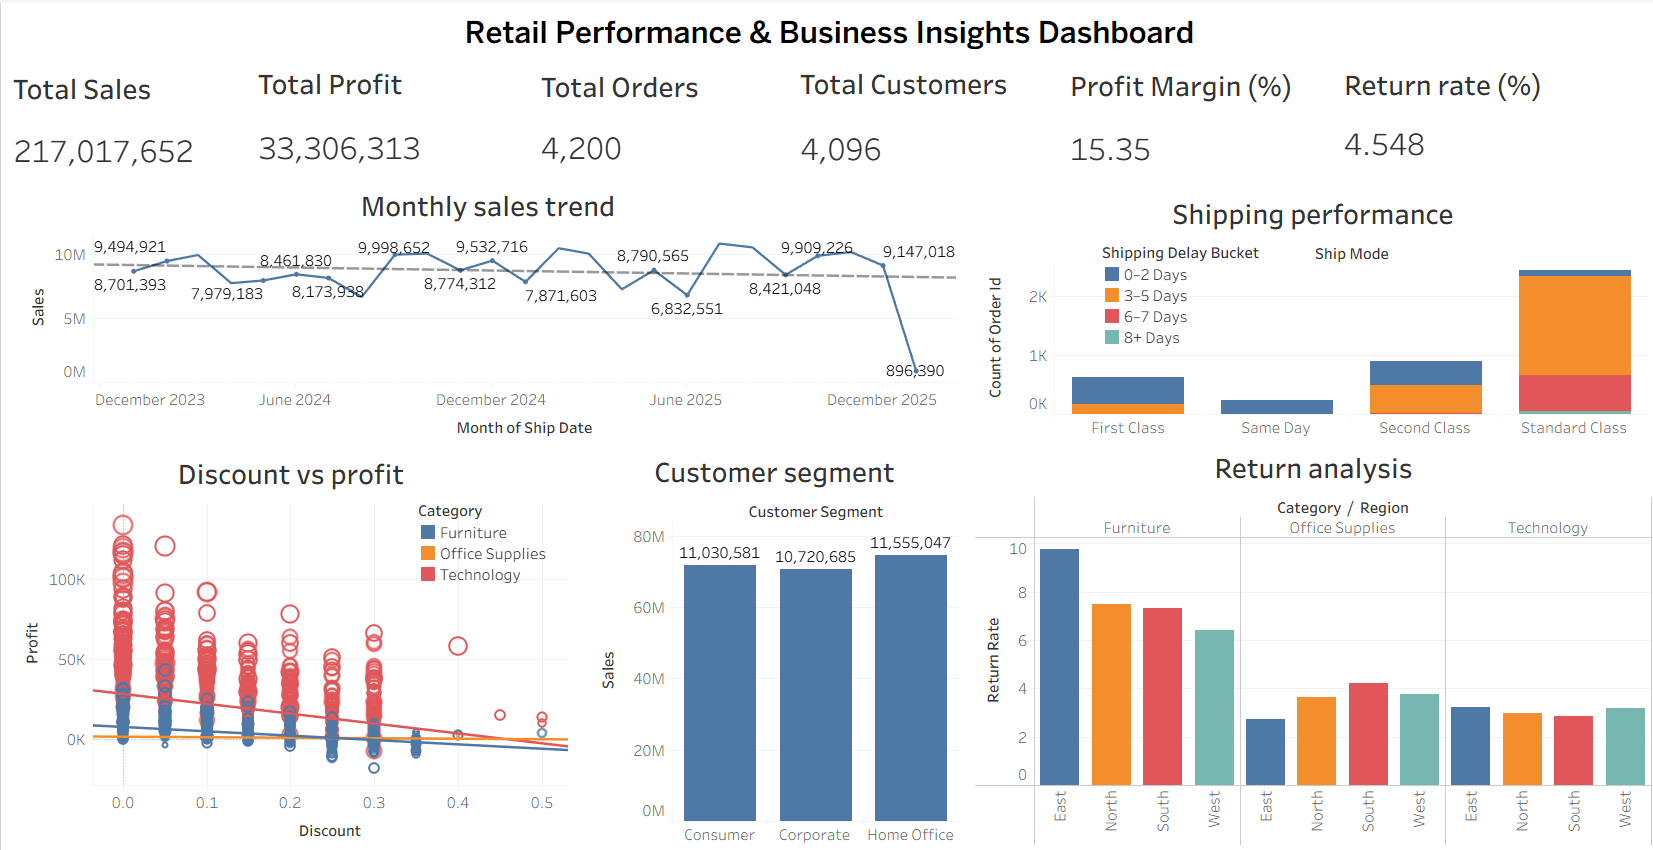

The page's visual inventory and layout, read from the dashboard file:
{"tool":"tableau","page":{"name":"Retail Perf & BI Dashboard","canvas":[1657,851],"ordinal":0},"visuals":[{"type":"title","box":[8,8,1641,44]},{"type":"worksheet","title":"Return rate","mark":"Automatic","box":[1430,51,216,116]},{"type":"worksheet","title":"Profit Margin","mark":"Automatic","box":[1147,53,280,124]},{"type":"worksheet","title":"Total Profit","mark":"Text","box":[253,58,292,131]},{"type":"worksheet","title":"Total Customers","mark":"Automatic","box":[839,59,259,124]},{"type":"worksheet","title":"Total Orders","mark":"Automatic","box":[536,61,227,115]},{"type":"worksheet","title":"Total Sales","mark":"Text","box":[8,63,251,117]},{"type":"worksheet","title":"Shipping performance","mark":"Automatic","rows":["order_id"],"cols":["ship_mode"],"box":[976,169,672,267]},{"type":"worksheet","title":"Sales trend","mark":"Automatic","rows":["sales"],"cols":["ship_date"],"box":[19,180,936,262]},{"type":"legend","title":"Shipping performance","param":"[federated.17v3oc90h205st198mt1000kp4o4].[none:Calculation_1258133023805444:nk]","box":[1146,216,140,106]},{"type":"worksheet","title":"Return analysis","mark":"Automatic","rows":["Calculation_1258133022142467"],"cols":["category","region"],"box":[974,442,677,401]},{"type":"worksheet","title":"Customer segment","mark":"Automatic","rows":["sales"],"cols":["customer_segment"],"box":[589,446,369,397]},{"type":"worksheet","title":"Discount vs profit","mark":"Automatic","rows":["profit"],"cols":["discount"],"box":[10,448,557,397]},{"type":"legend","title":"Discount vs profit","param":"[federated.17v3oc90h205st198mt1000kp4o4].[none:category:nk]","box":[417,497,140,85]}]}

Visuals, with their boxes in screenshot pixels (x1, y1, x2, y2), scaled from the page's 1657x851 canvas onto the 1653x850 screenshot:
title: box(8, 8, 1645, 52)
"Return rate" worksheet: box(1427, 51, 1642, 167)
"Profit Margin" worksheet: box(1144, 53, 1424, 177)
"Total Profit" worksheet (Text marks): box(252, 58, 544, 189)
"Total Customers" worksheet: box(837, 59, 1095, 183)
"Total Orders" worksheet: box(535, 61, 761, 176)
"Total Sales" worksheet (Text marks): box(8, 63, 258, 180)
"Shipping performance" worksheet: box(974, 169, 1644, 435)
"Sales trend" worksheet: box(19, 180, 953, 441)
"Shipping performance" legend: box(1143, 216, 1283, 322)
"Return analysis" worksheet: box(972, 441, 1647, 842)
"Customer segment" worksheet: box(588, 445, 956, 842)
"Discount vs profit" worksheet: box(10, 447, 566, 844)
"Discount vs profit" legend: box(416, 496, 556, 581)
